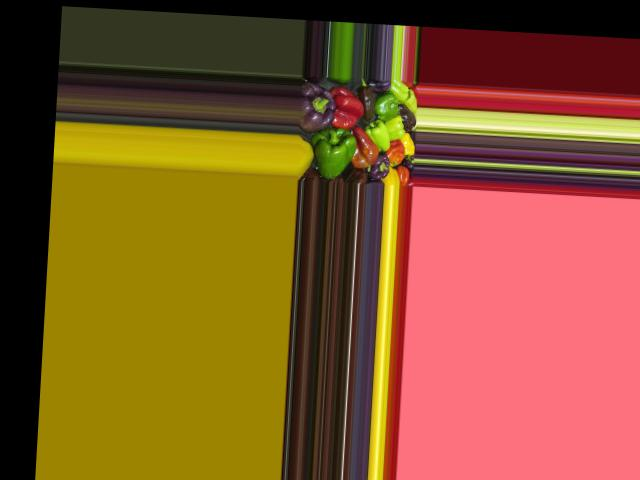bell_pepper: (368, 153, 394, 182)
